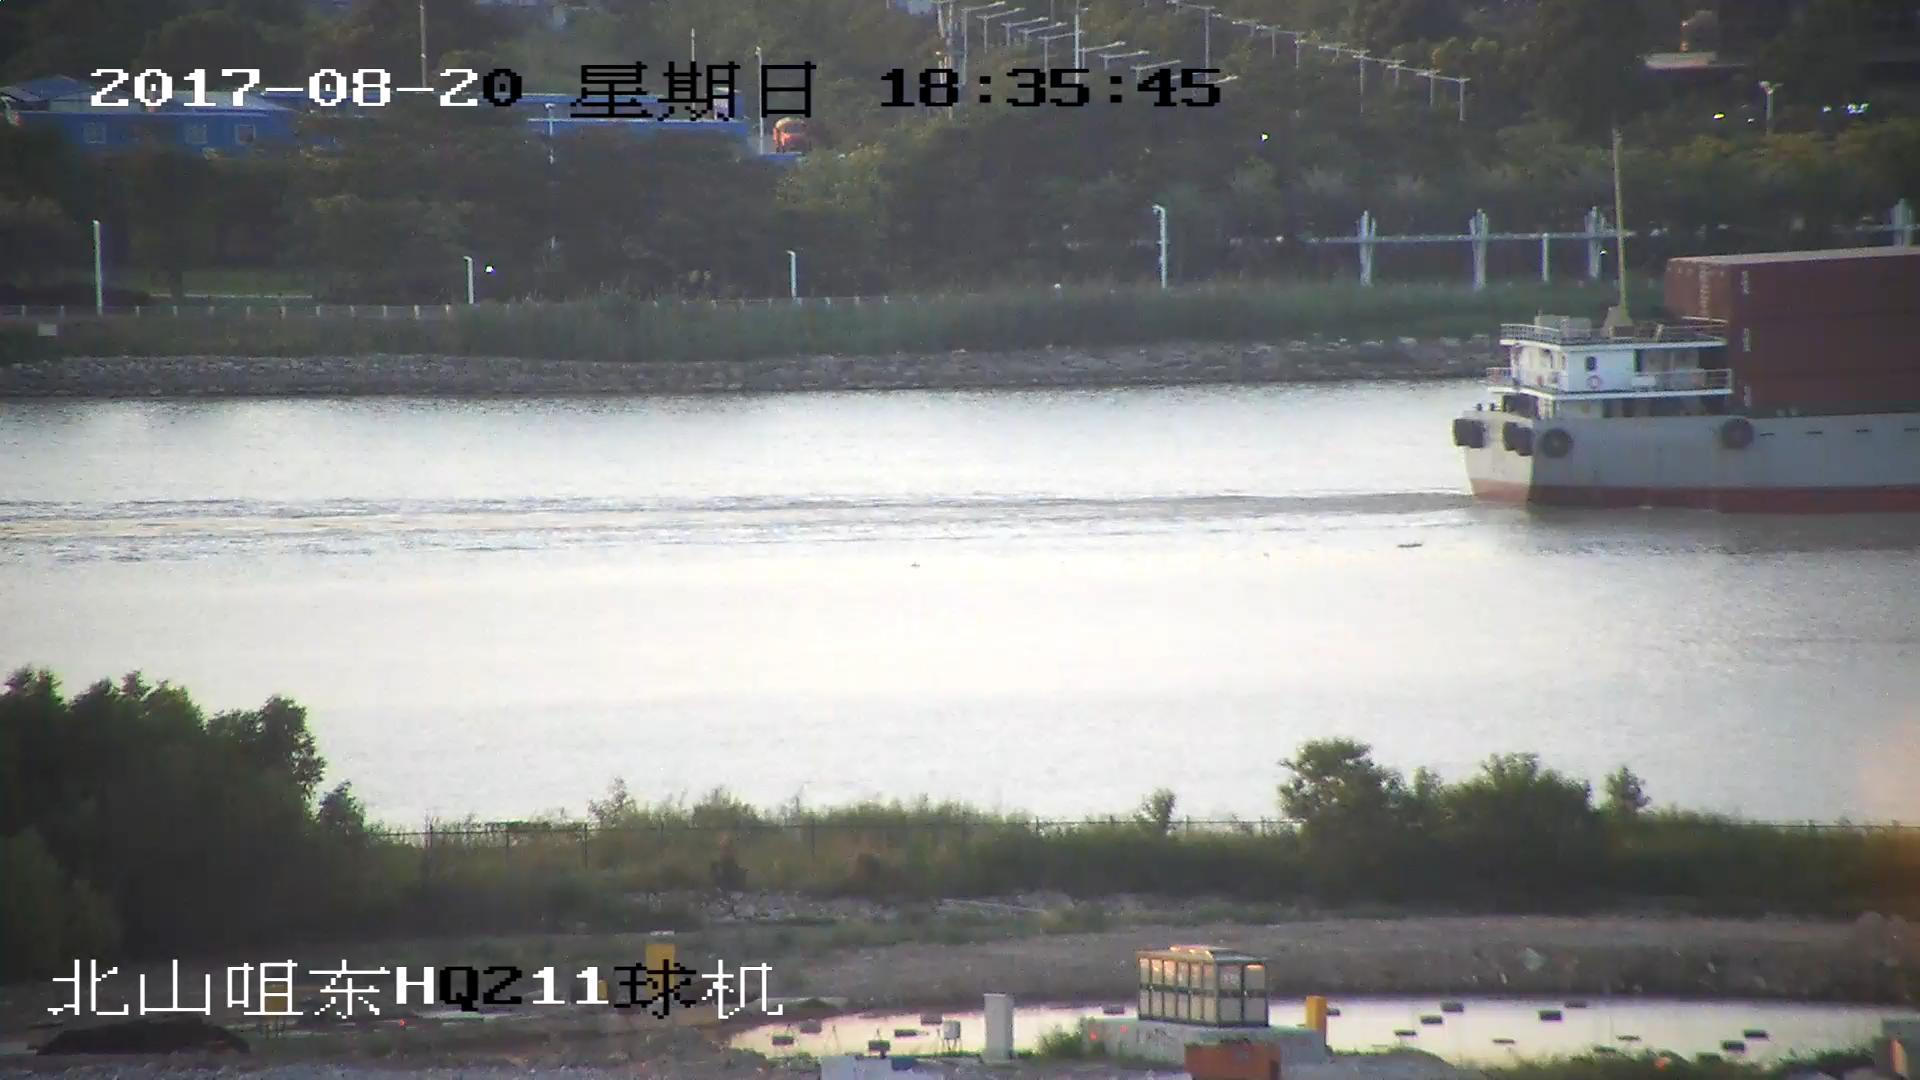Ship: (1447, 240, 1920, 514)
